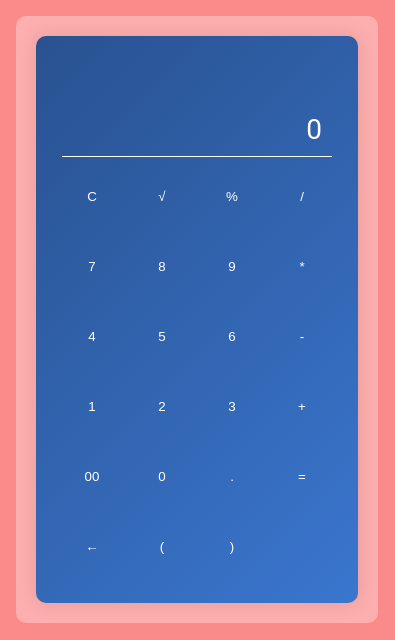
Test case: Calculator Component › performs addition correctly
Click the button "1": (92, 406) [62,376,122,436]
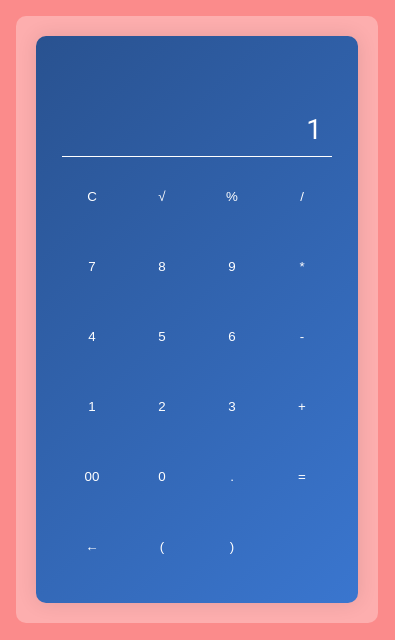
Click the button "+": (302, 406) [272,376,332,436]
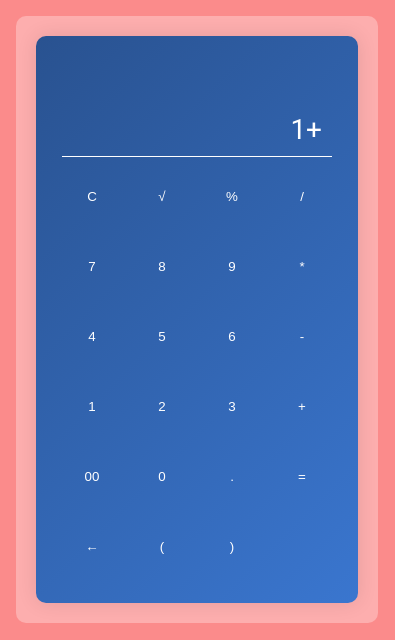
Click the button "2": (162, 406) [132,376,192,436]
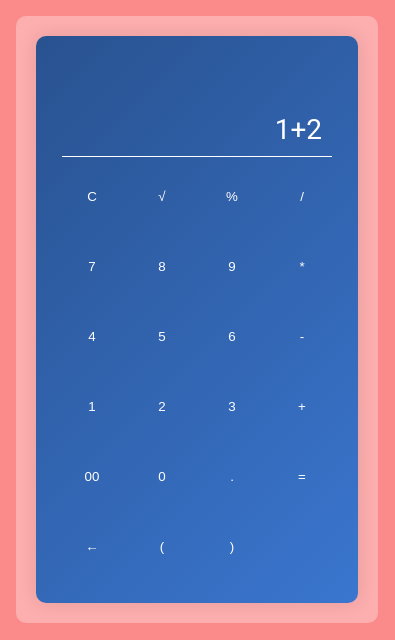
Click the button "=": (302, 476) [272,446,332,506]
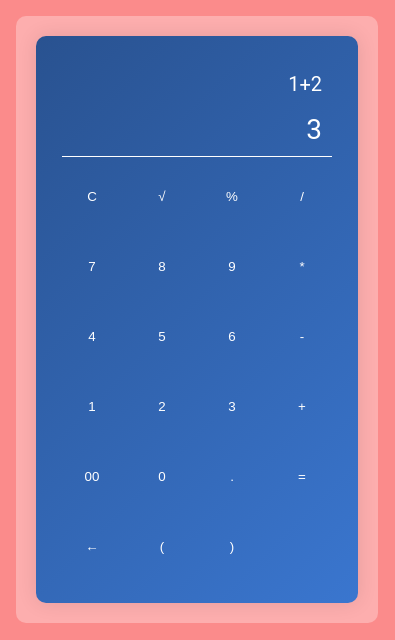
Check: the text "3" is shown, box [306,112,322,146]
